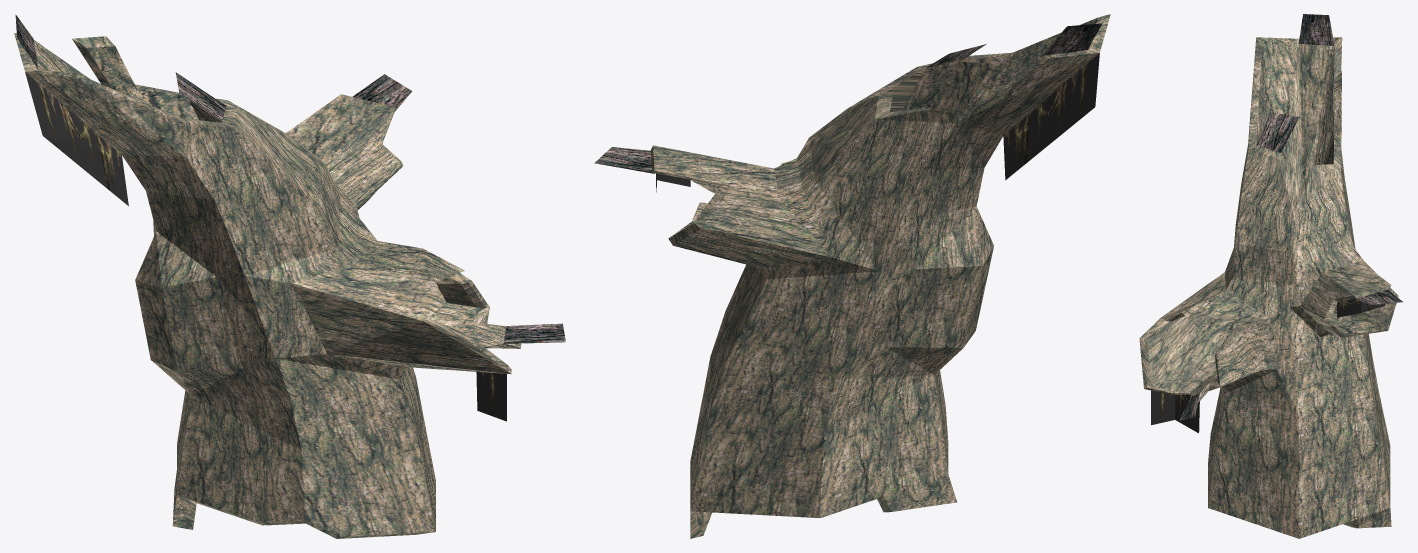
File: poi_all_lair_dead_log_large_l0.fbx
3 views of the same model, side by side, from view 1: azimuth 30°, elevation 25°; view 2: azimuth 150°, elevation 25°; view 3: azimuth 270°, elevation 25° (orthographic). The views are drawn at different scales.
Visible parts, largest first — view 1: mesh_node; view 2: mesh_node; view 3: mesh_node.
Part boxes in pixels (box(x1,y1,x2,y2)): mesh_node: box(14, 14, 565, 538); mesh_node: box(594, 14, 1110, 538); mesh_node: box(1139, 14, 1402, 538).
Bounding box in the file's own units: 7.98 × 9.17 × 5.53.
